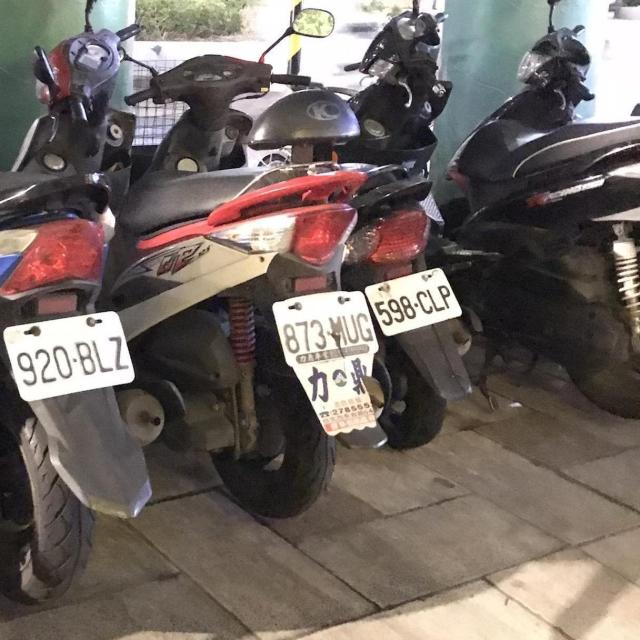W: (1, 304, 141, 405), (269, 283, 378, 368), (363, 262, 465, 339)
